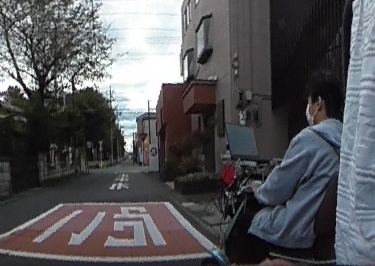person: (252, 75, 348, 252)
